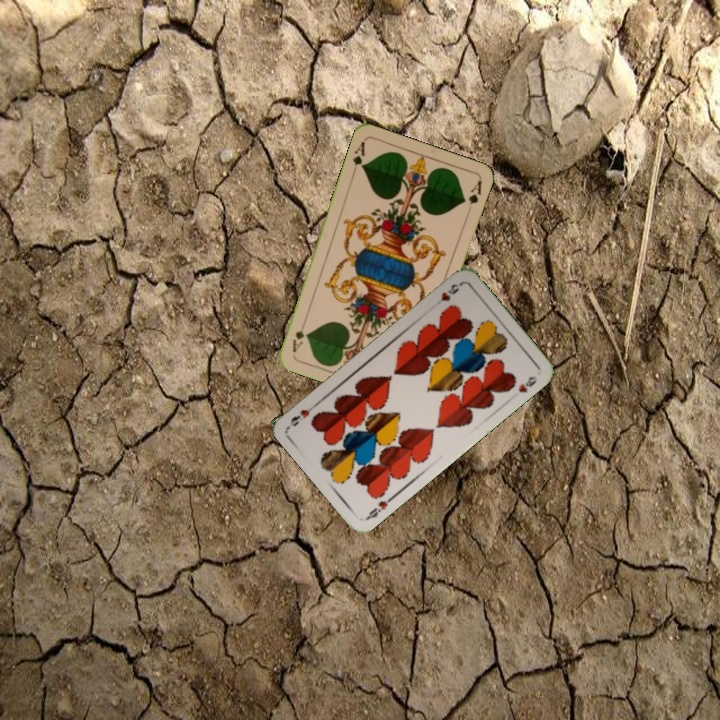GA: (348, 137, 368, 177)
H9: (430, 279, 465, 310), (362, 492, 397, 523)
